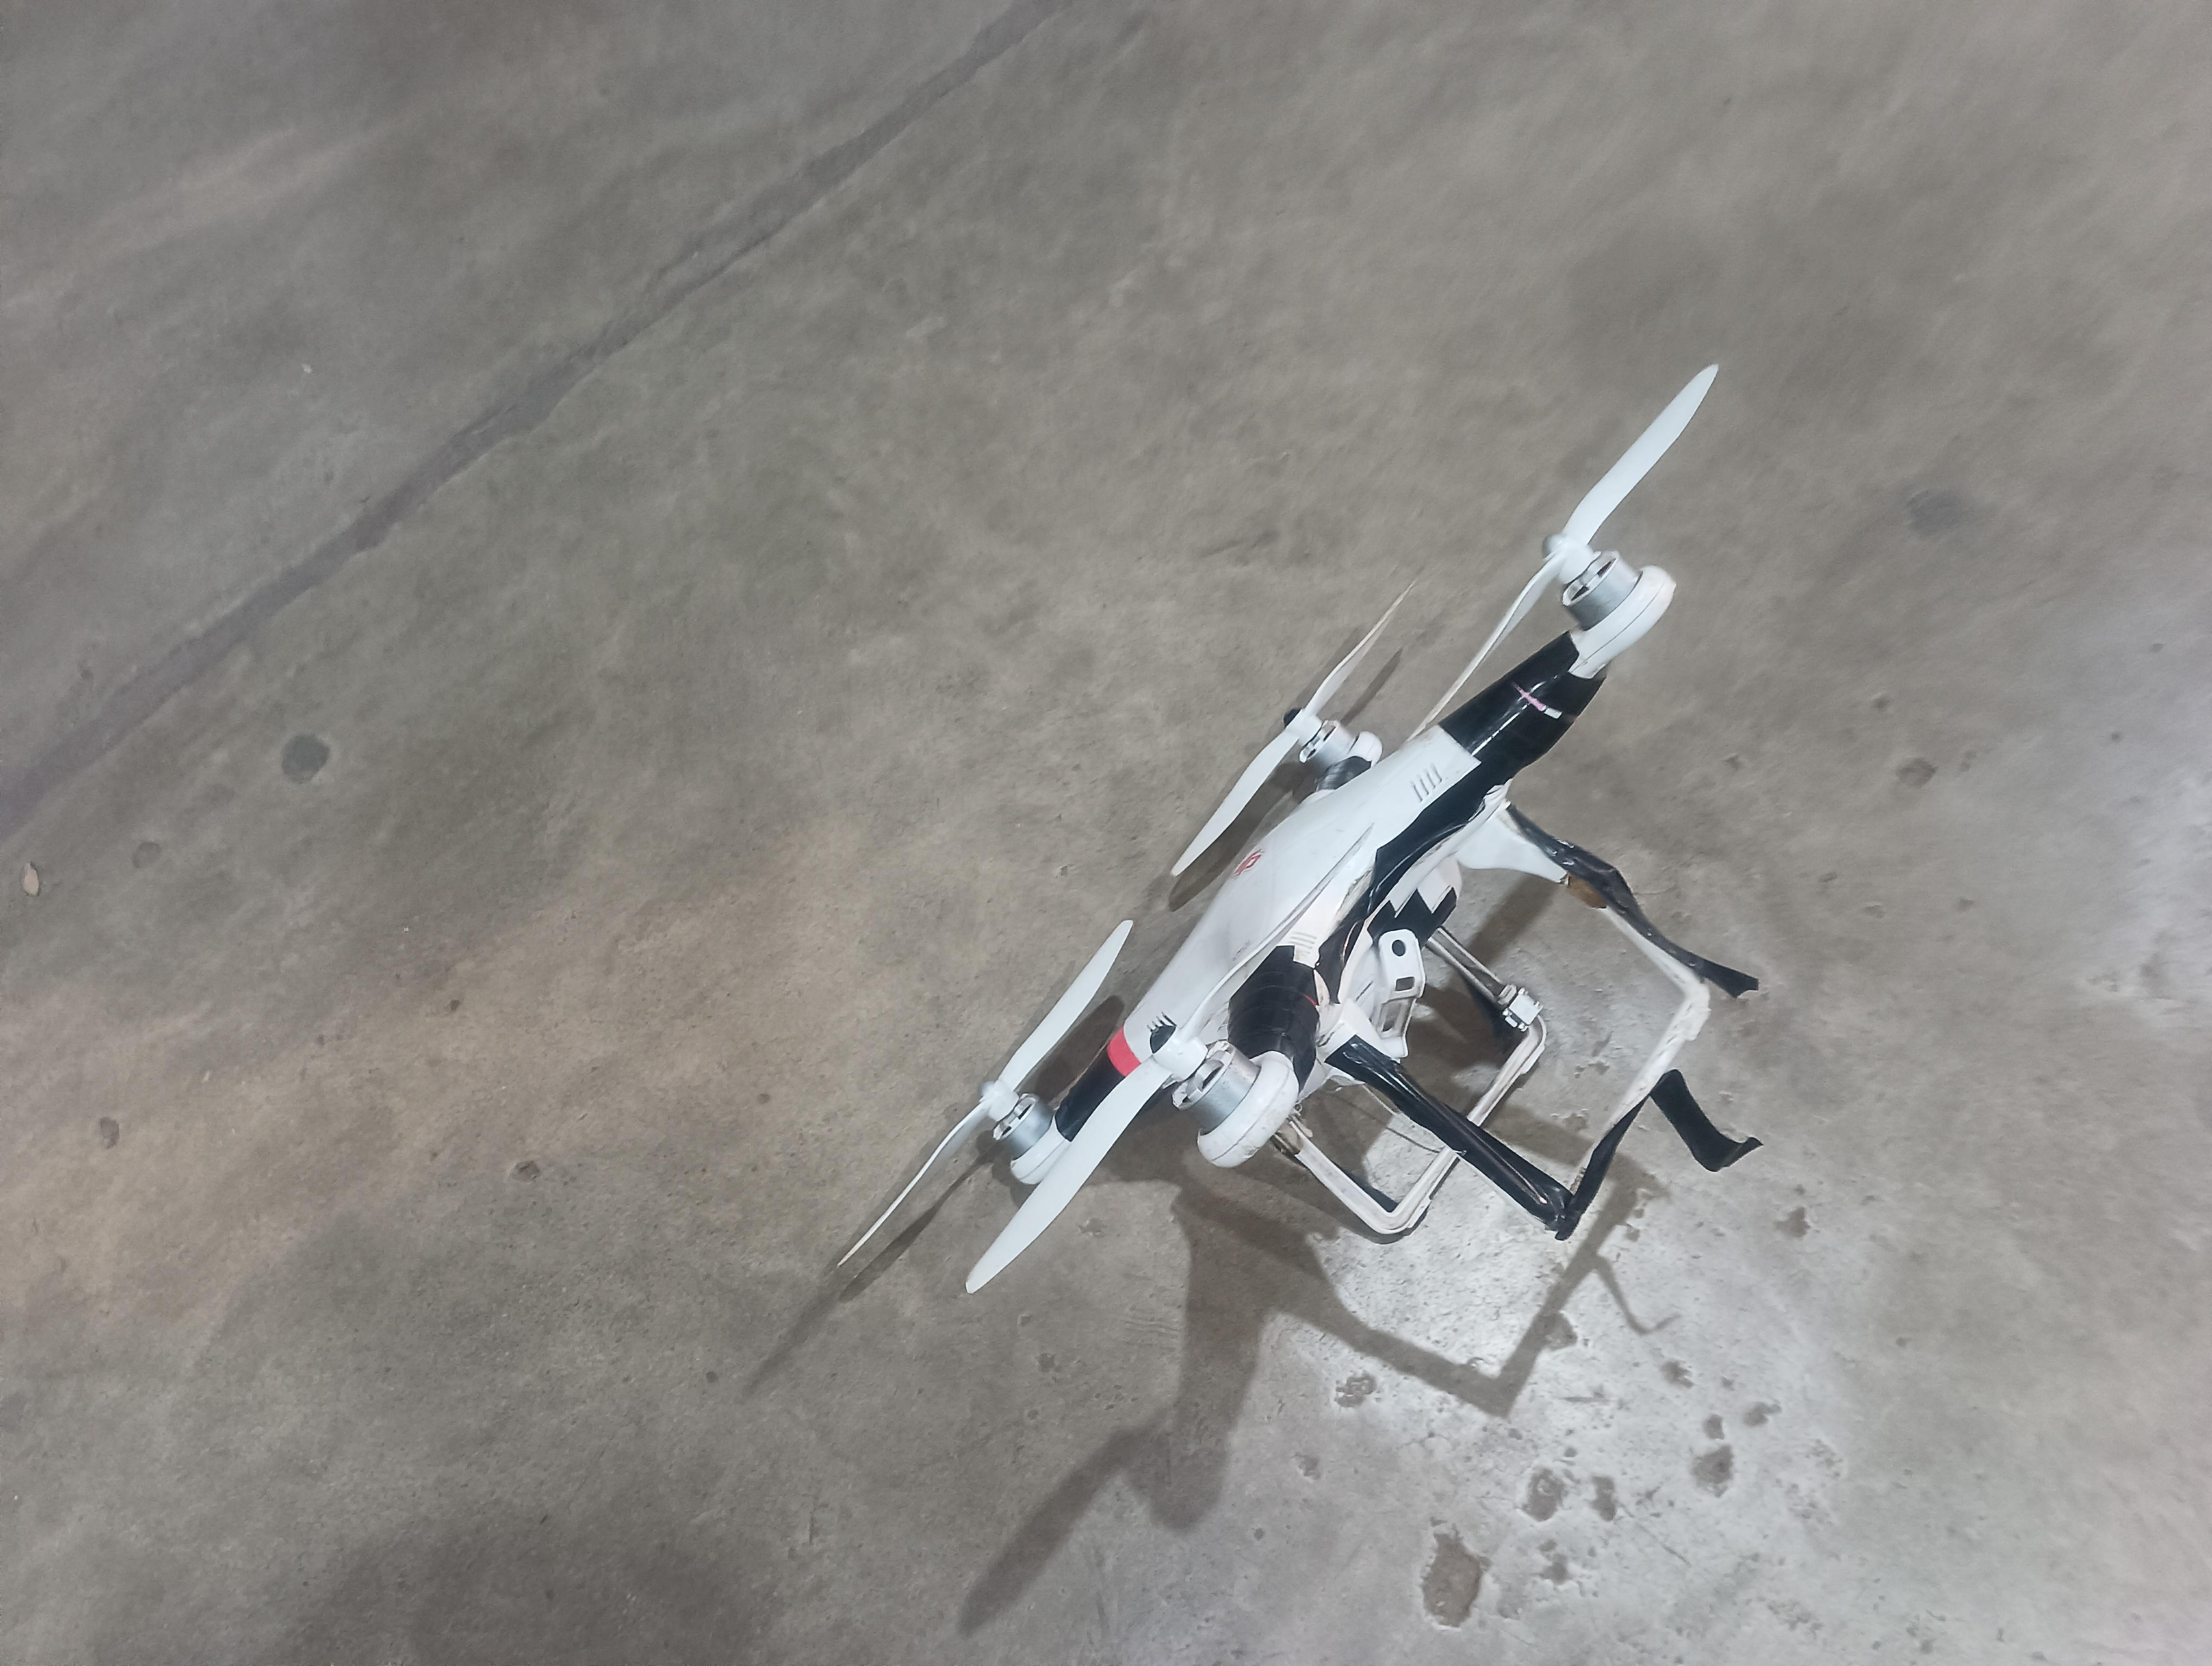drone: (836, 338, 1885, 1416)
